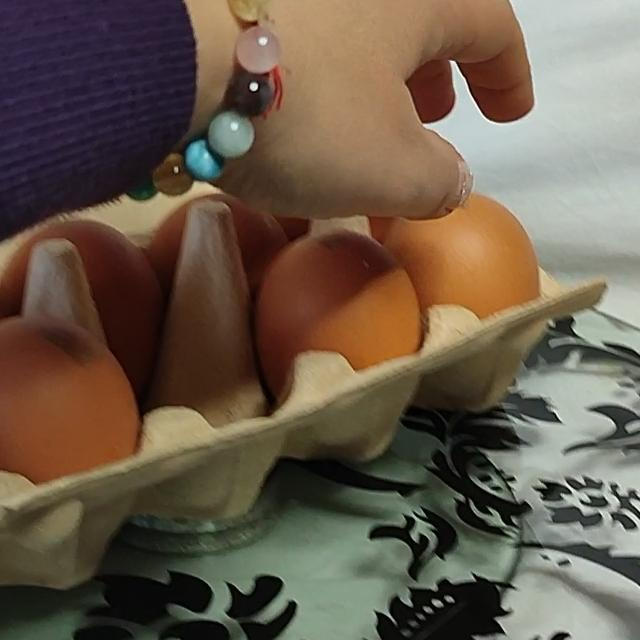egg: (0, 46, 567, 640)
